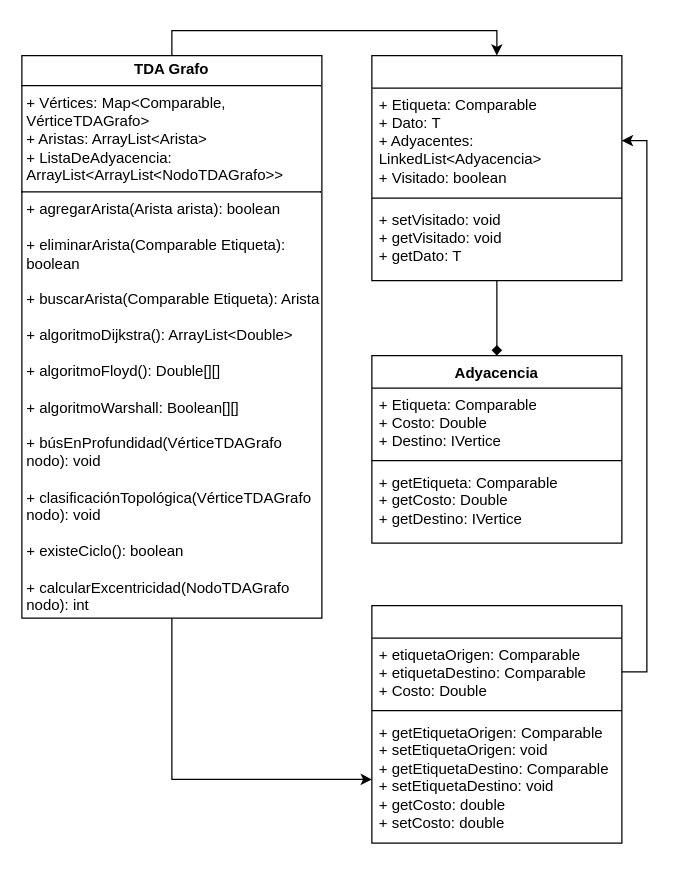
Image size: 679x869. Some labels were removed from this diagram. Here are the shapes that lost their labels. From the top down, the box of each, then its label:
(371, 54, 622, 281): Vértice TDA Grafo
(371, 604, 622, 843): Arista
